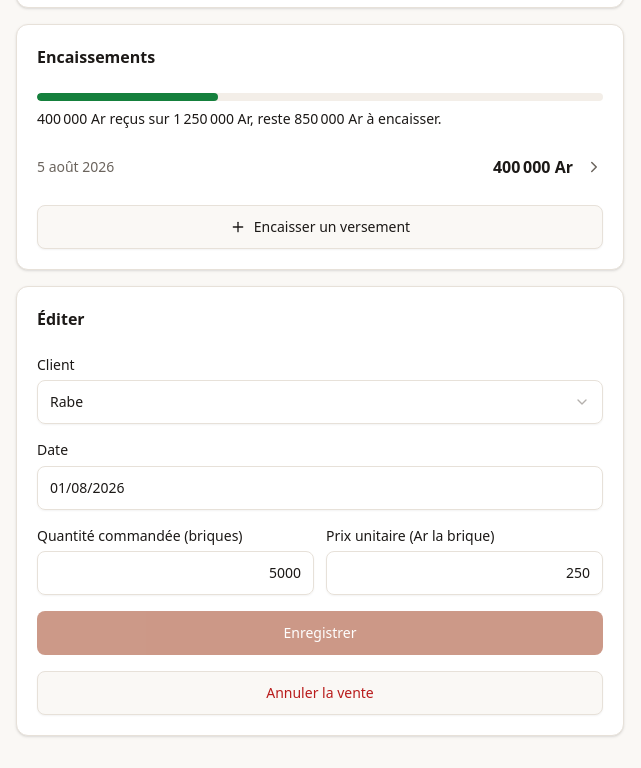
Test case: SalePage › says the instalments must go first when the API refuses the cancellation
(page scrolled)
Click the button "Annuler la vente" at (320,693), box [37,671,603,715]
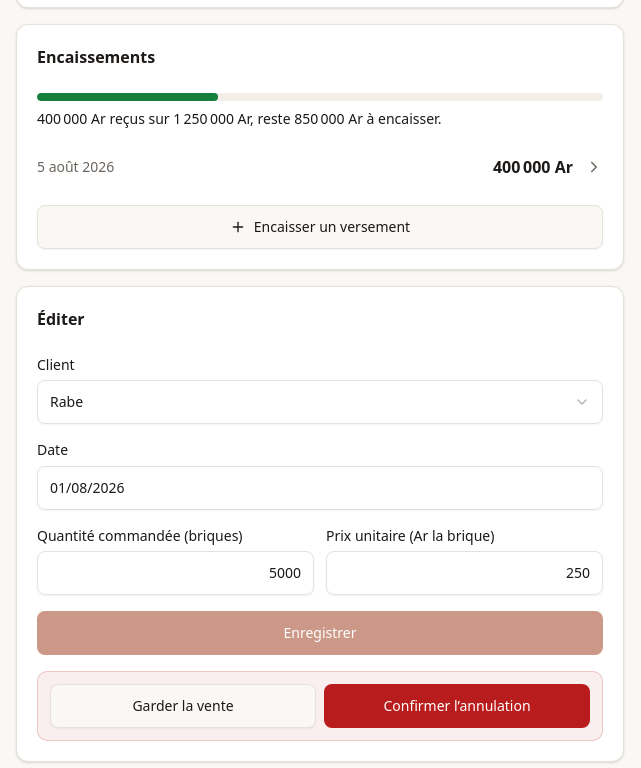
Click the button "Confirmer l’annulation" at (457,706), box [324,684,590,728]
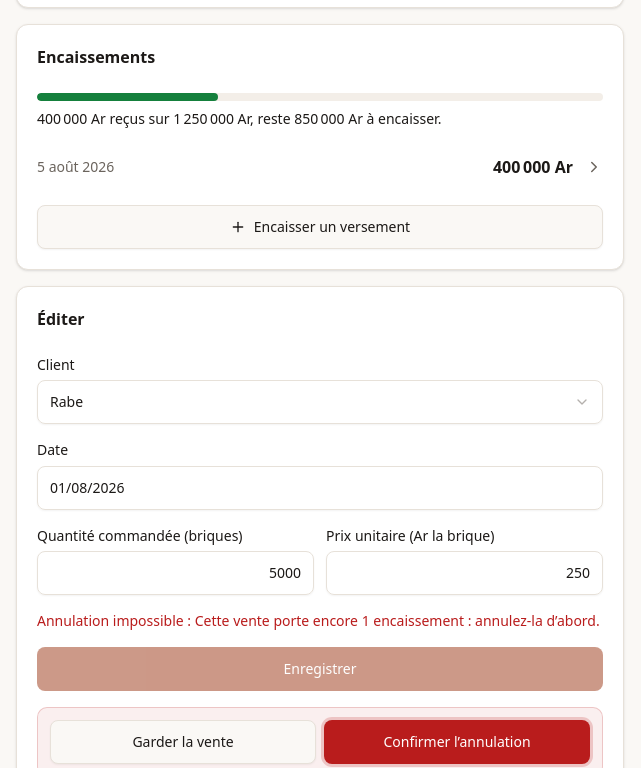
Check: the message shows "Annulation impossible : Cette vente porte encore 1 encaissement : annulez-la d’abord.", box [37,611,603,631]
